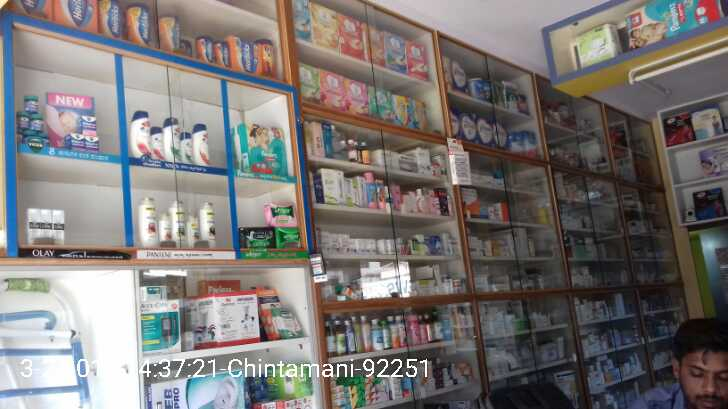beauty: (139, 196, 159, 248), (131, 106, 149, 157), (172, 195, 188, 248), (164, 117, 180, 164), (201, 202, 217, 248), (193, 121, 209, 165), (28, 208, 43, 245), (159, 213, 173, 248), (180, 130, 192, 164), (53, 209, 64, 245), (42, 208, 52, 246), (151, 125, 162, 159), (188, 218, 200, 247)
pharmacy: (233, 122, 289, 175), (266, 198, 299, 227), (239, 225, 275, 248), (276, 226, 301, 249), (80, 113, 97, 137), (24, 95, 39, 114), (29, 113, 45, 130), (69, 133, 84, 150), (17, 112, 29, 130), (87, 133, 97, 149)
